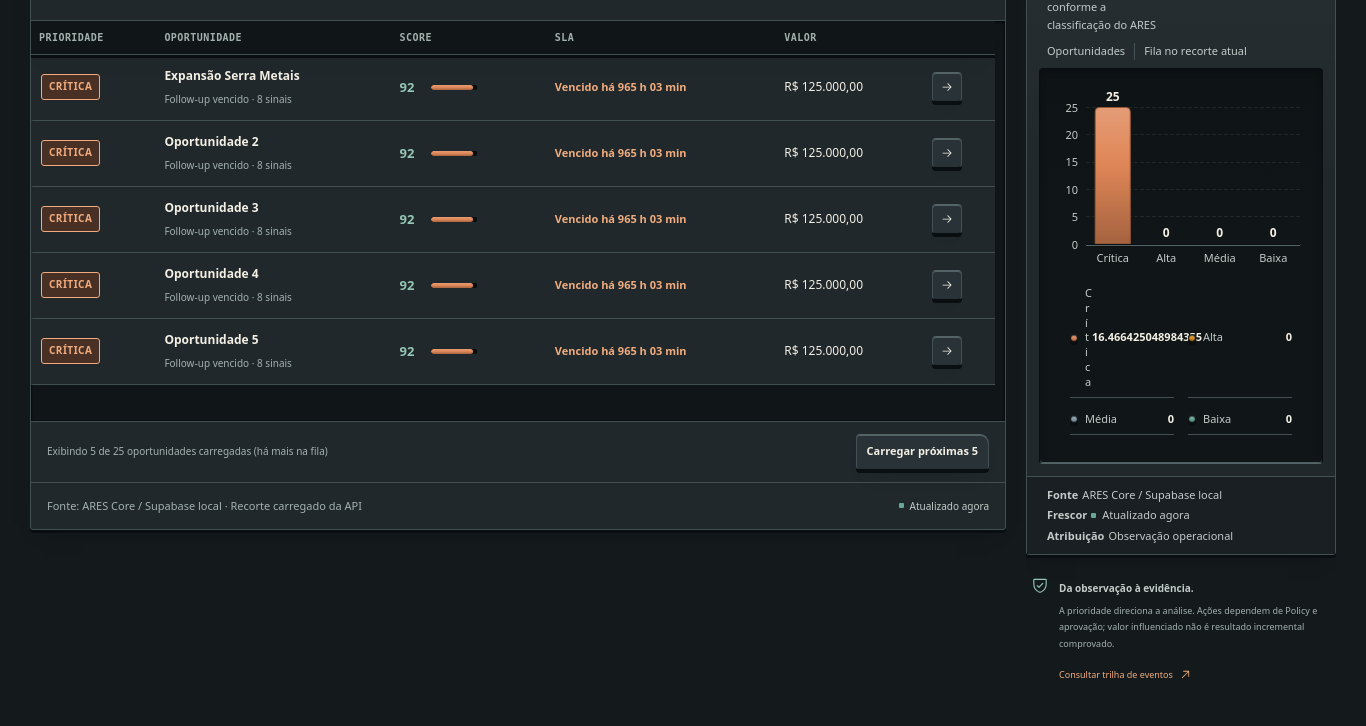
Test: reveals the priority queue and loads subsequent API pages (paginated=true)
(page scrolled)
Expected: the number of pictures named "Score 92 de 100" is 5, [430, 84, 476, 90]; [430, 150, 476, 156]; [430, 216, 476, 222]; [430, 282, 476, 288]; [430, 348, 476, 354]
Expected: the text "Exibindo 5 de 25 oportunidades carregadas (há mais na fila)" is shown, [47, 444, 328, 459]
Click the button "Carregar próximas 5" at (922, 452), box [856, 434, 989, 470]
(page scrolled)
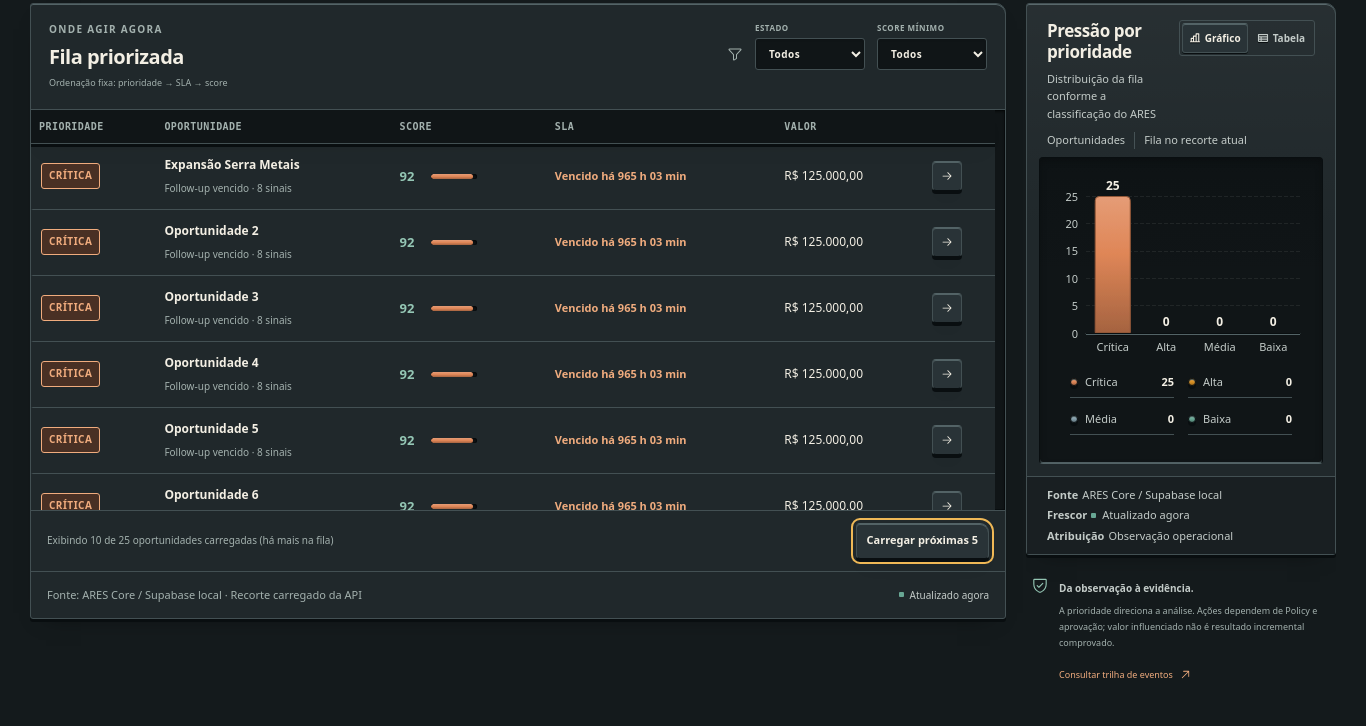
Expected: the link "Oportunidade 6" is shown, [164, 486, 259, 503]
Click the button "Carregar próximas 5" at (922, 540), box [856, 522, 989, 558]
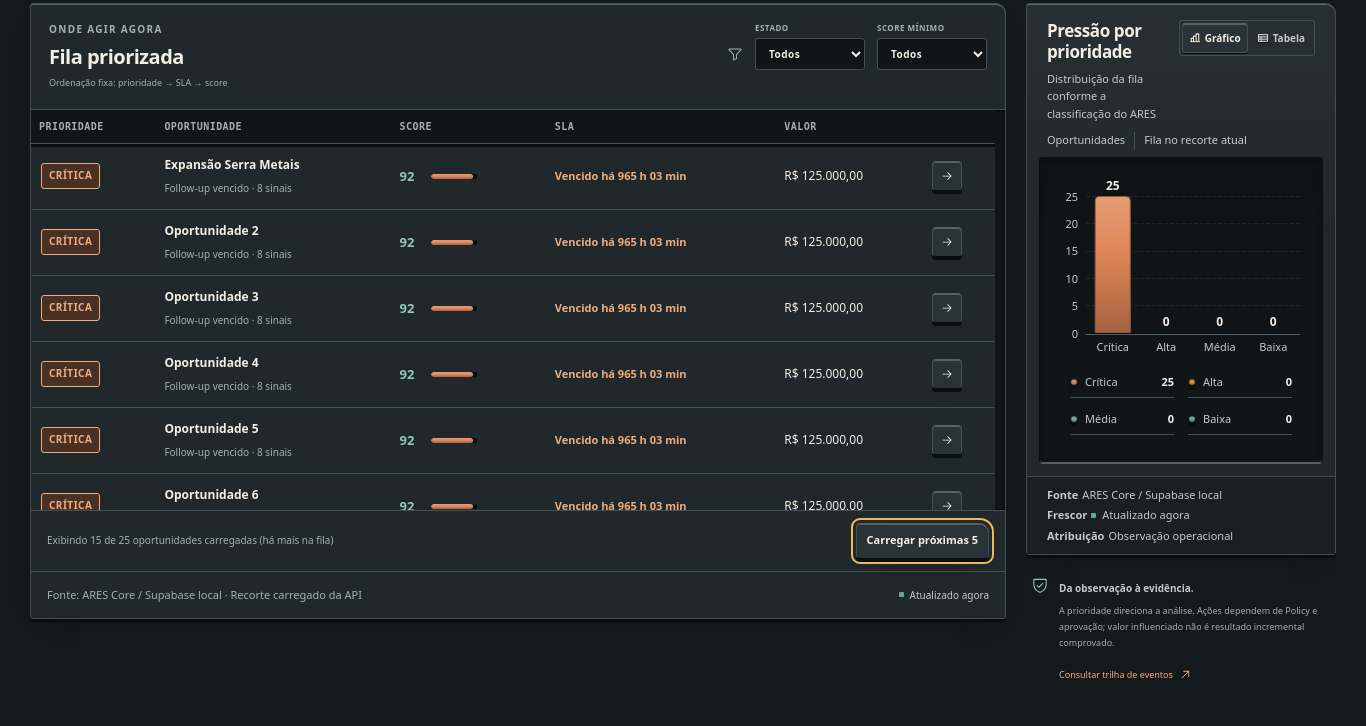
Click the button "Carregar próximas 5" at (922, 540), box [856, 522, 989, 558]
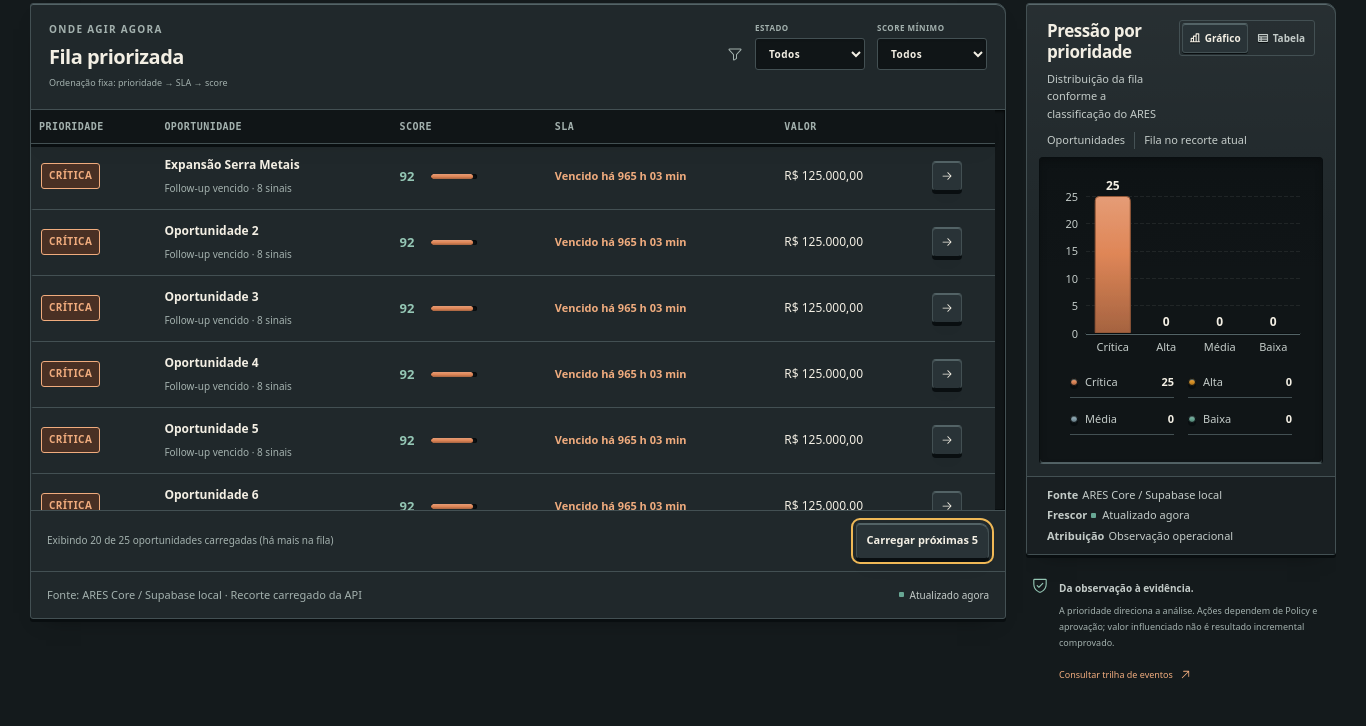
Click the button "Carregar próximas 5" at (922, 540), box [856, 522, 989, 558]
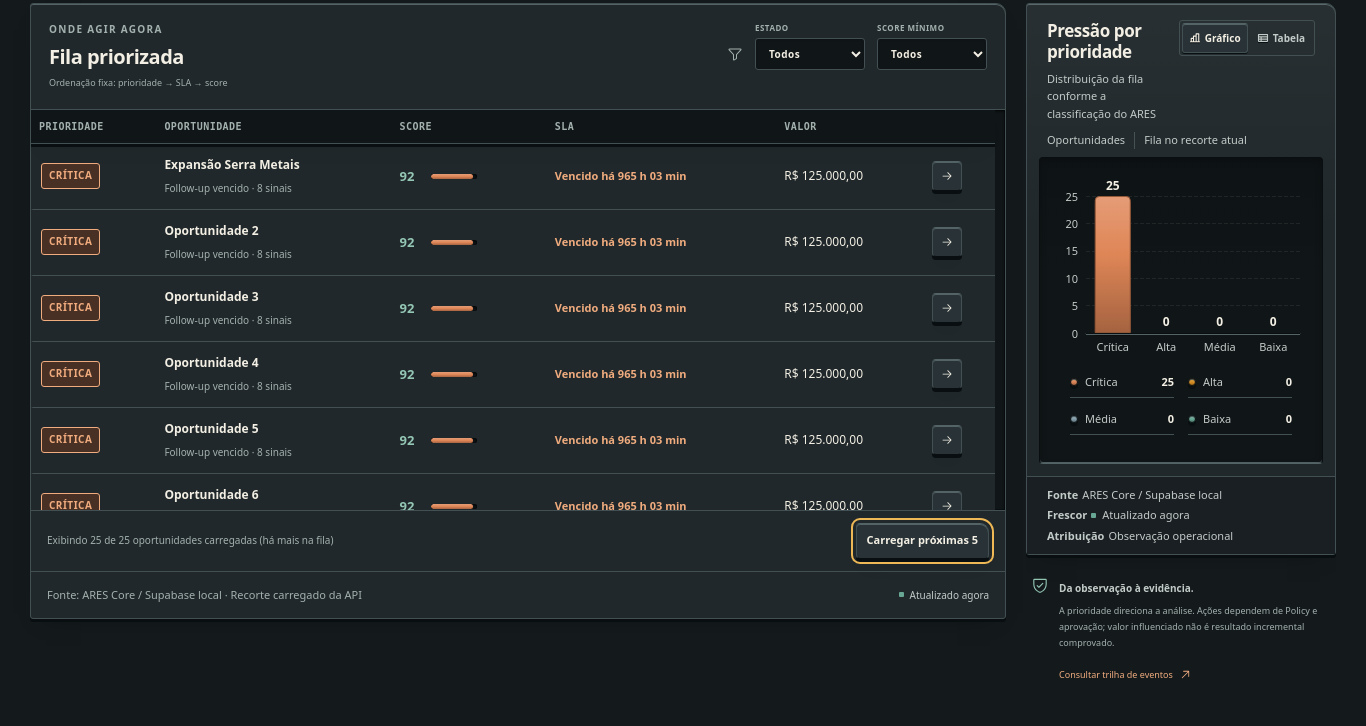
Click the button "Carregar próximas 5" at (922, 540), box [856, 522, 989, 558]
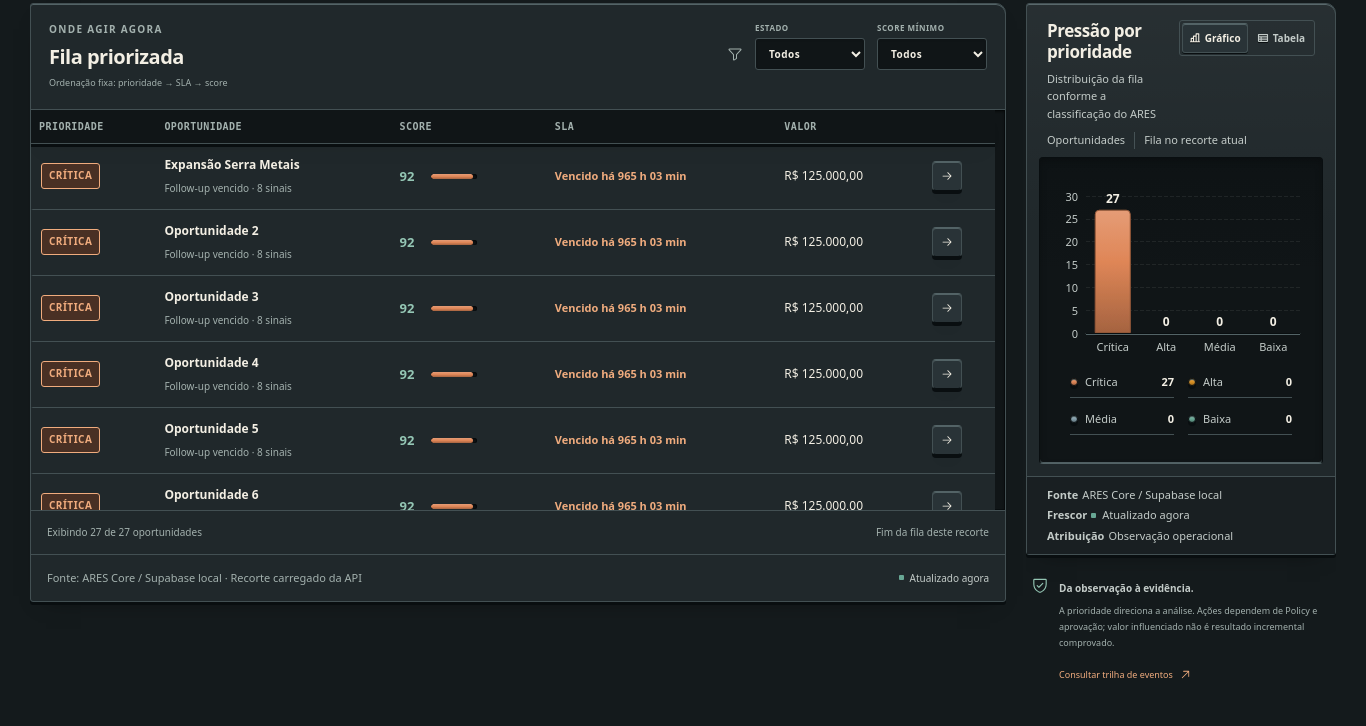
Expected: the number of pictures named "Score 92 de 100" is 27
Expected: the text "Exibindo 27 de 27 oportunidades" is shown, [47, 524, 202, 540]
Expected: the button "Carregar próximas 5" is gone
